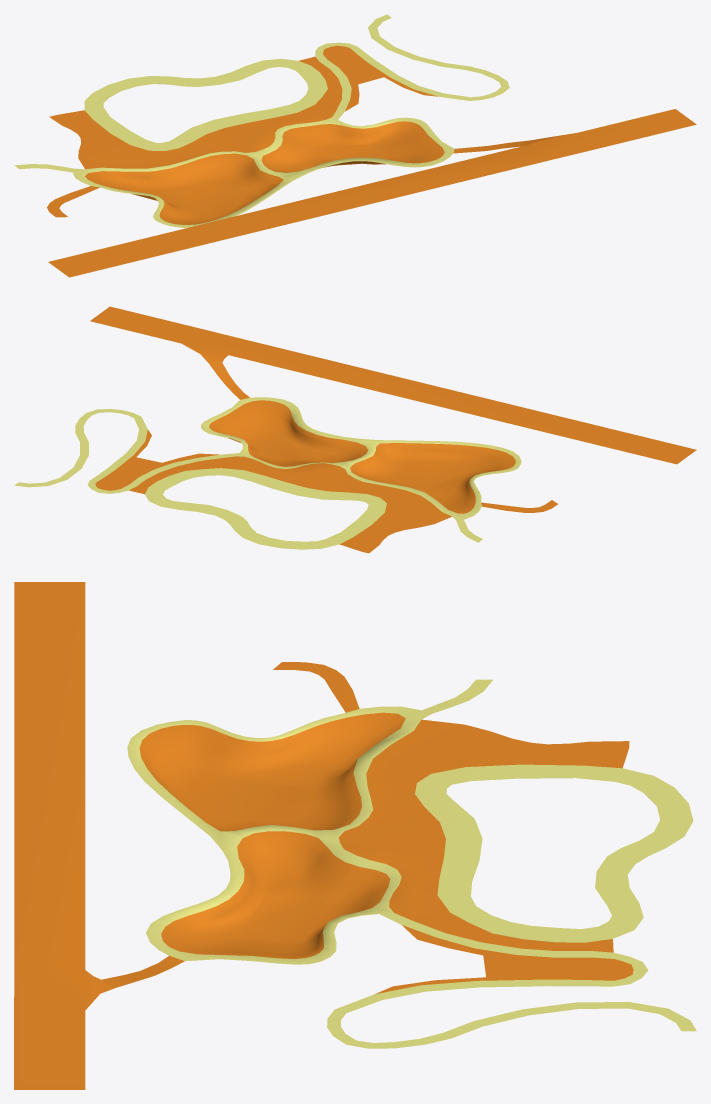
Rendered from woods.glb.
The picture shows the model from 3 angles, top to bottom: view 1: azimuth 30°, elevation 25°; view 2: azimuth 150°, elevation 25°; view 3: azimuth 270°, elevation 25°; orthographic projection. The views are drawn at different scales.
Parts seen in each view (by area): view 1: Plane; view 2: Plane; view 3: Plane.
Part boxes in pixels (box(x1,y1,x2,y2)): Plane: box(14, 14, 696, 277); Plane: box(14, 306, 696, 553); Plane: box(14, 582, 696, 1089).
Bounding box in the file's own units: 127 × 5.05 × 72.36.
